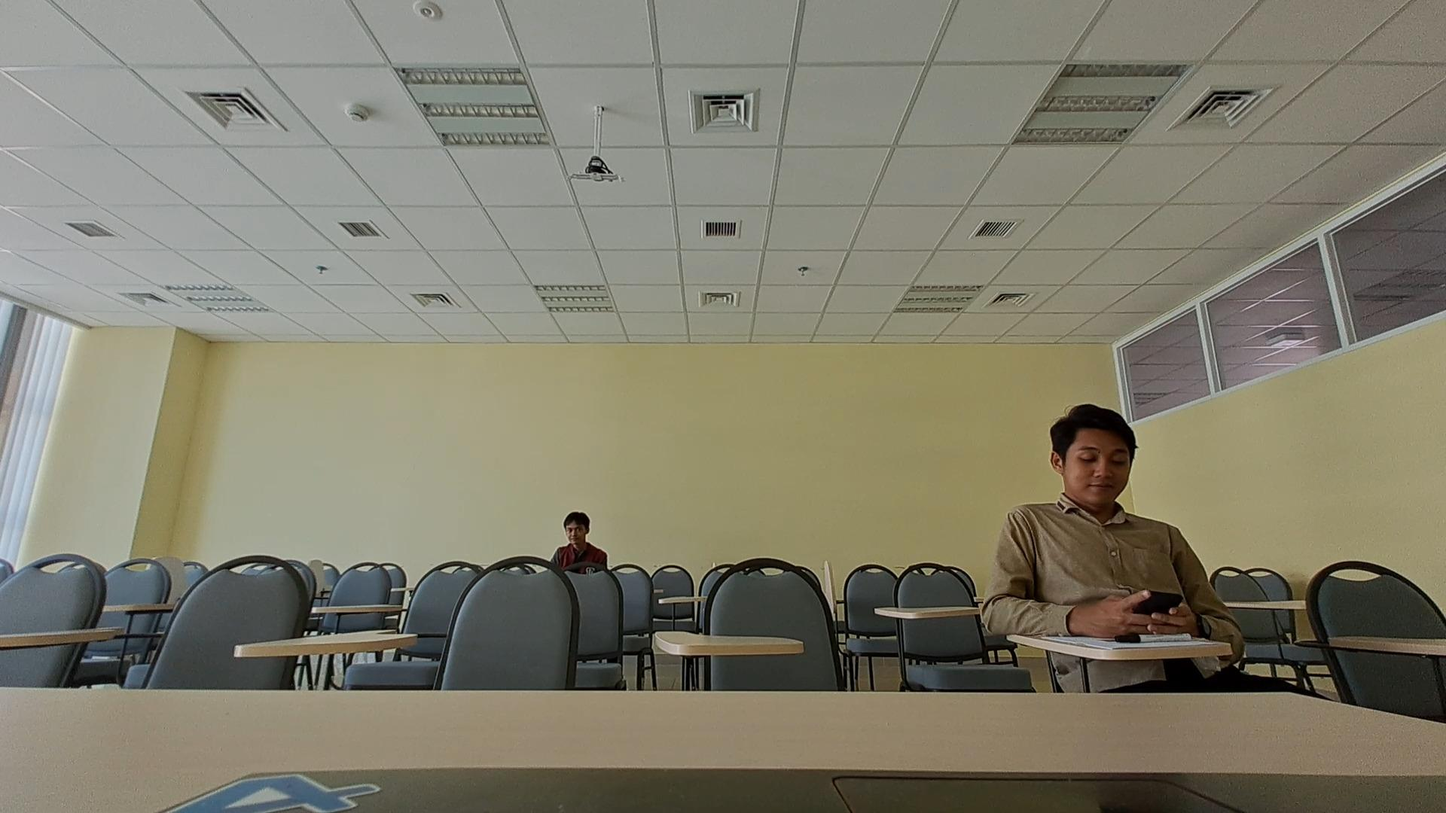phone: (981, 406, 1220, 638)
study: (548, 512, 607, 576)
